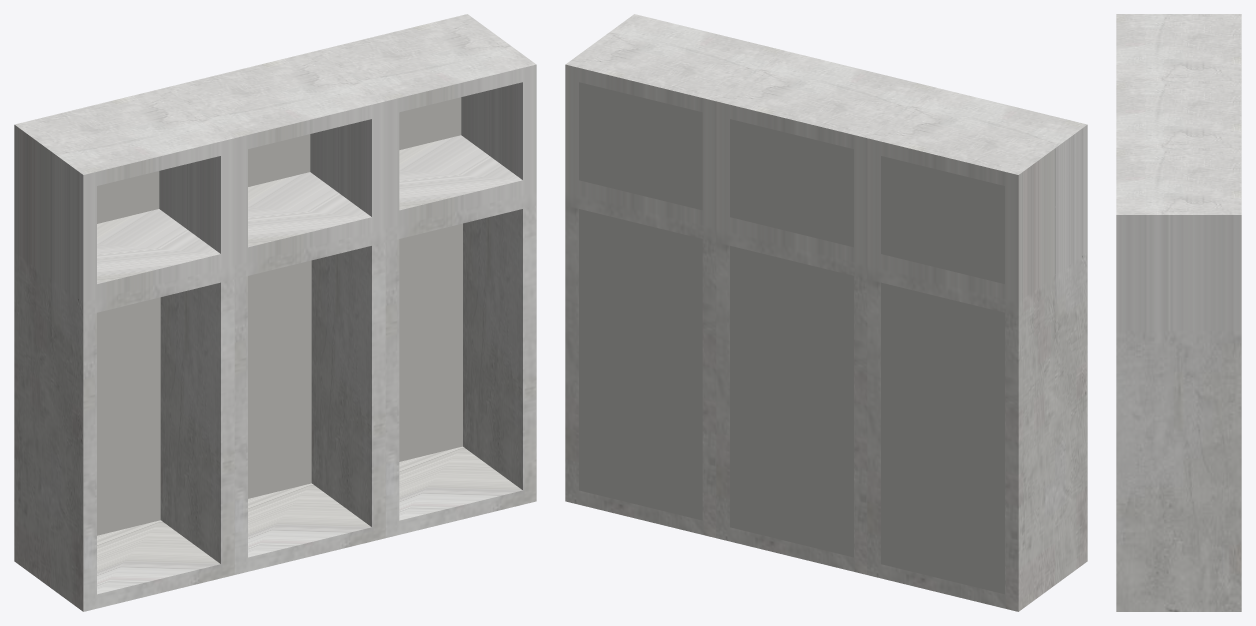
Rendered from шкаф1.fbx.
The picture shows the model from 3 angles, left to right: view 1: azimuth 30°, elevation 25°; view 2: azimuth 150°, elevation 25°; view 3: azimuth 270°, elevation 25°; orthographic projection. The views are drawn at different scales.
Parts seen in each view (by area): view 1: Cube; view 2: Cube; view 3: Cube.
Boxes of the visible parts, bbox=[...] form: Cube: bbox=[14, 14, 536, 611]; Cube: bbox=[565, 14, 1087, 611]; Cube: bbox=[1116, 14, 1241, 611].
Bounding box in the file's own units: 290 × 267 × 76.56.
Materials: 1 (1 with a texture image).
